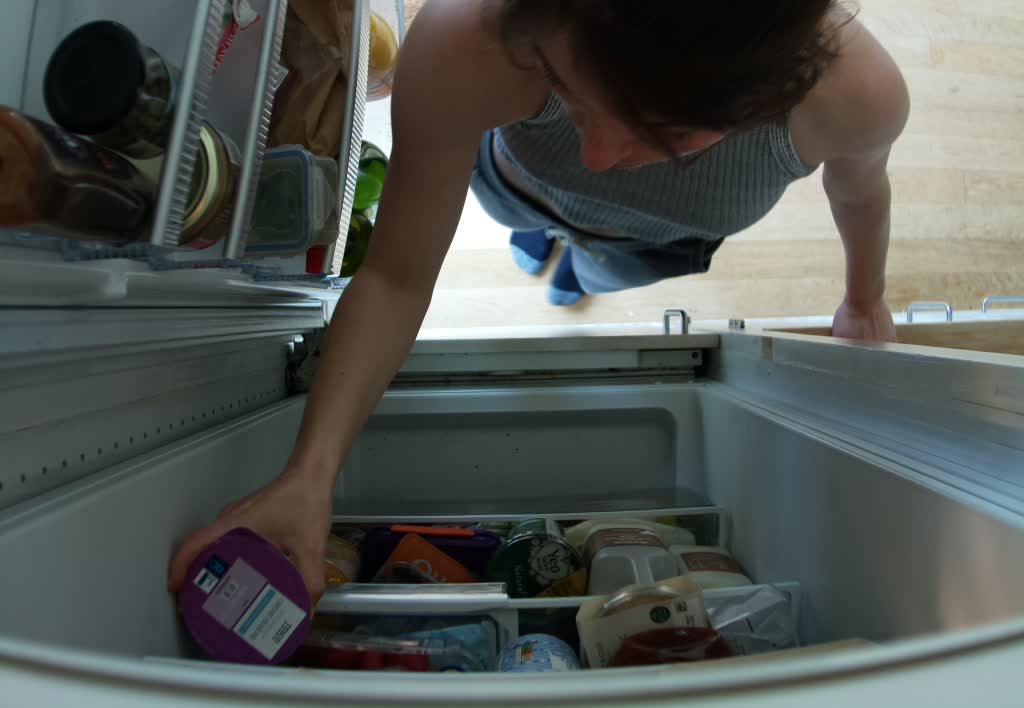cream: (175, 533, 310, 666)
